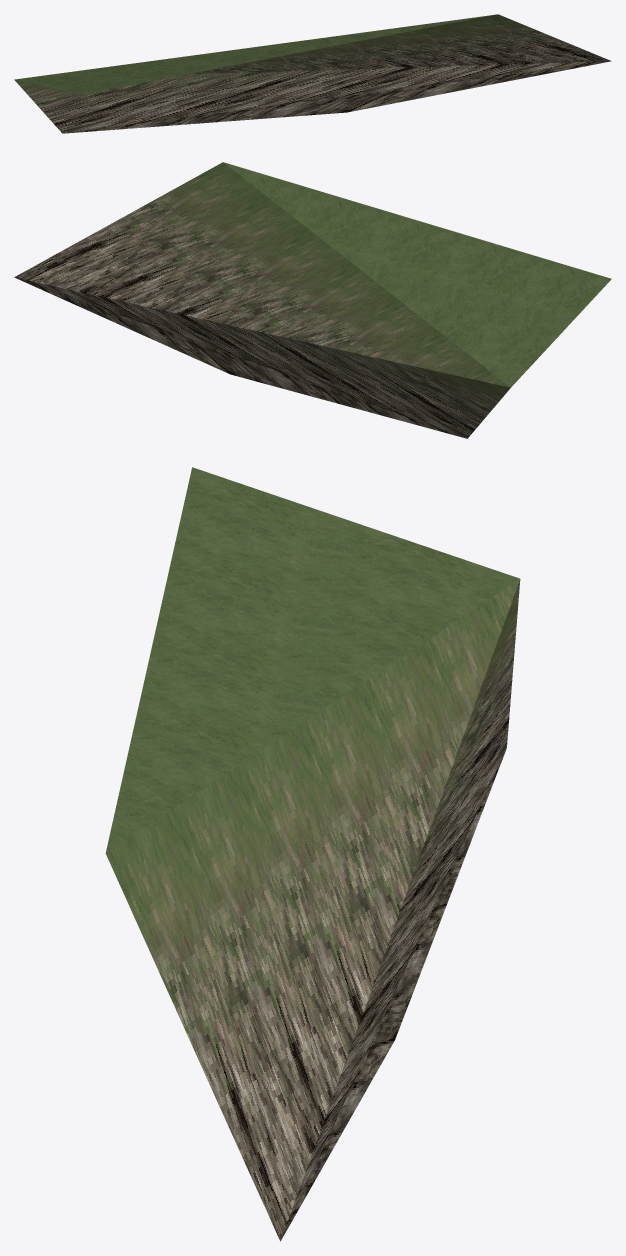
The model's file is LODa_carisle_mid_landmass_02_01.fbx.
3 views of the same model, one above another, from view 1: azimuth 30°, elevation 25°; view 2: azimuth 150°, elevation 25°; view 3: azimuth 270°, elevation 25° (orthographic). The views are drawn at different scales.
Parts seen in each view (by area): view 1: LODa_carisle_mid_landmass_02_01; view 2: LODa_carisle_mid_landmass_02_01; view 3: LODa_carisle_mid_landmass_02_01.
Part boxes in pixels (left/top/right/bottom): LODa_carisle_mid_landmass_02_01: left=14, top=14, right=611, bottom=133; LODa_carisle_mid_landmass_02_01: left=14, top=162, right=611, bottom=438; LODa_carisle_mid_landmass_02_01: left=105, top=467, right=520, bottom=1241.
Size of the model in its own units: 28.54 by 9.27 by 6.51.
